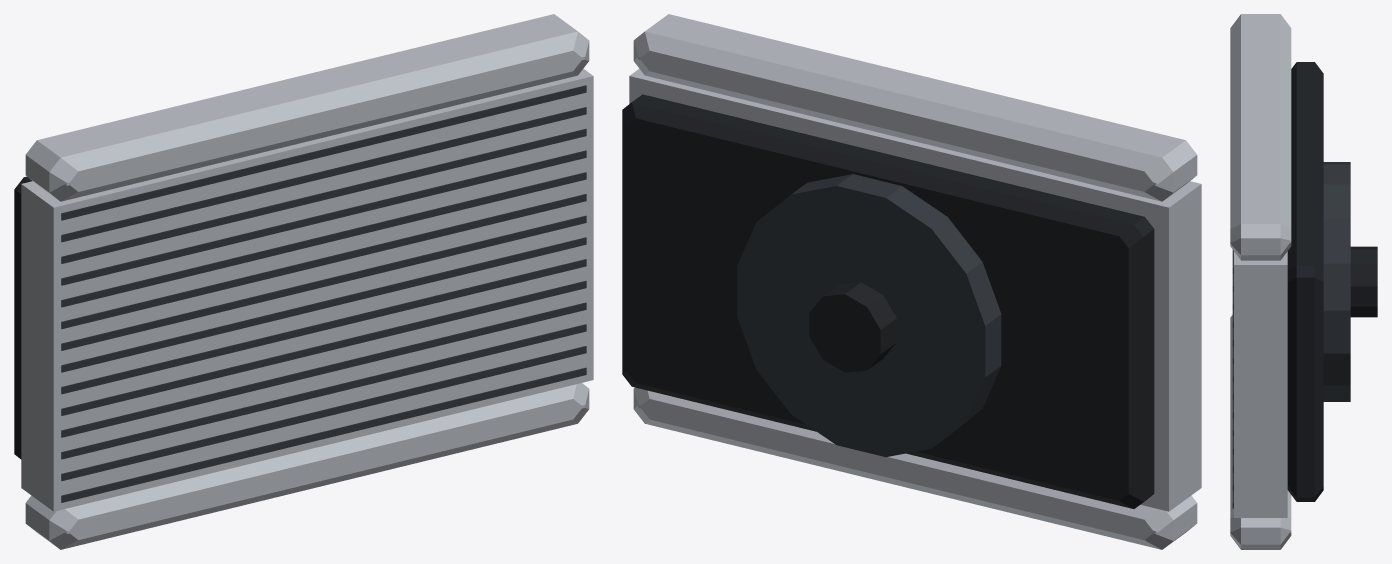
The model's file is hana_roadster.glb.
3 views of the same model, side by side, from view 1: azimuth 30°, elevation 25°; view 2: azimuth 150°, elevation 25°; view 3: azimuth 270°, elevation 25° (orthographic). The views are drawn at different scales.
Visible parts, largest first — view 1: model; view 2: model; view 3: model.
Boxes of the visible parts, bbox=[...] form: model: bbox=[14, 14, 593, 549]; model: bbox=[622, 14, 1201, 549]; model: bbox=[1230, 14, 1377, 549].
Bounding box in the file's own units: 0.576 × 0.4 × 0.164.
Materials: 1 (1 with a texture image).
